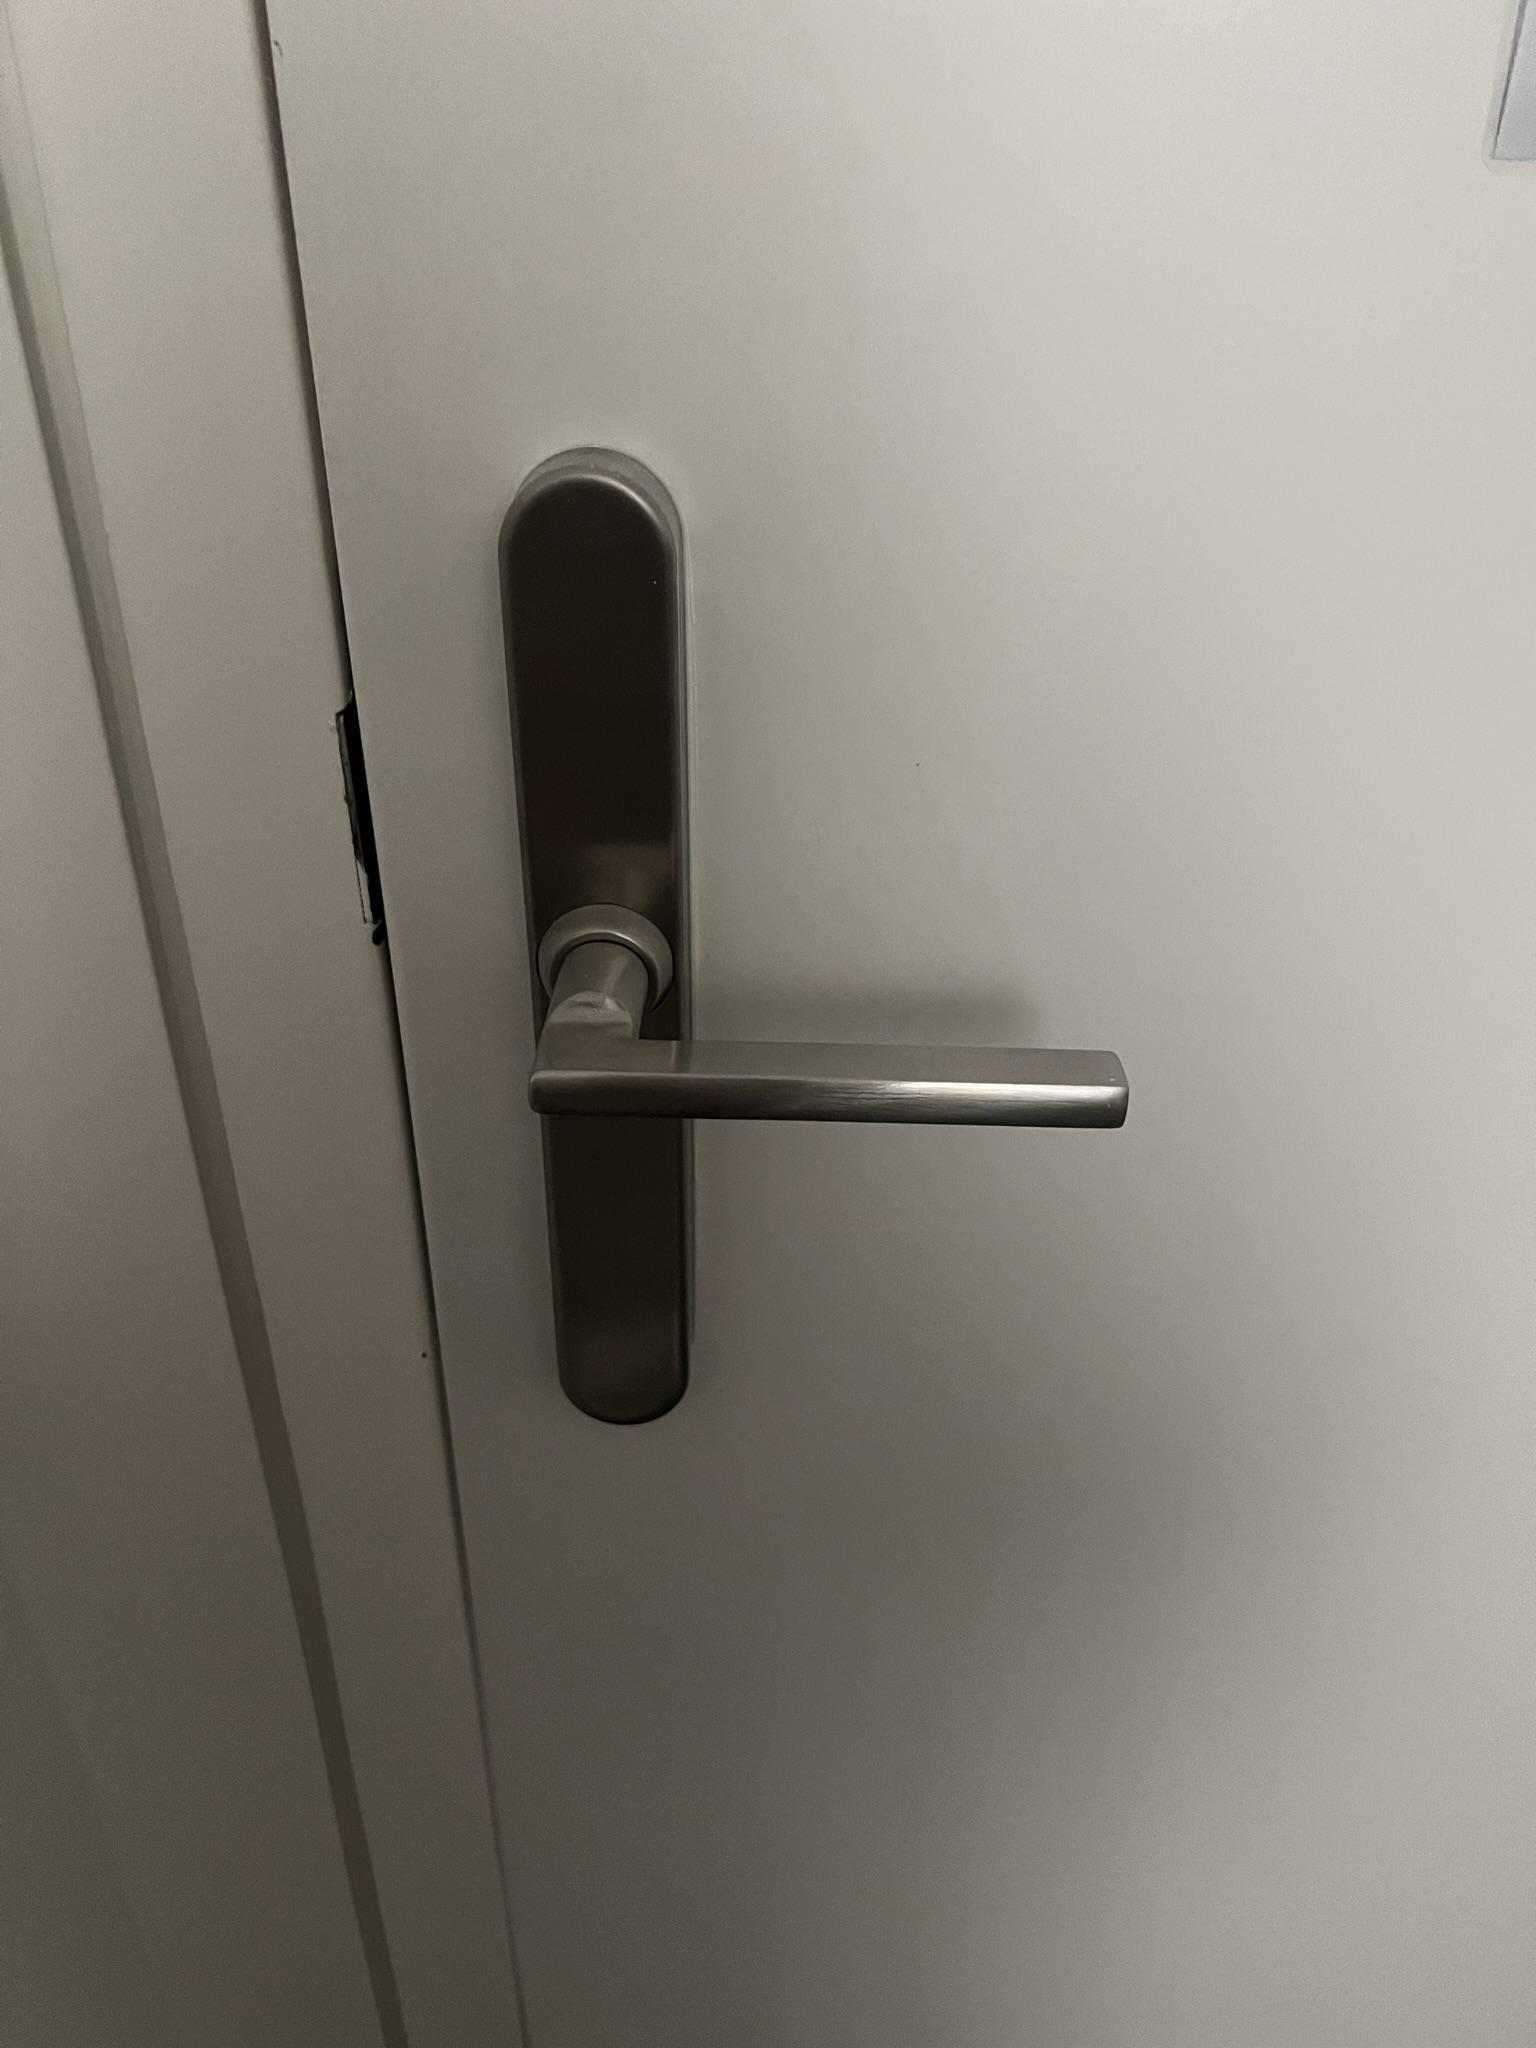handle: (482, 431, 1141, 1450)
